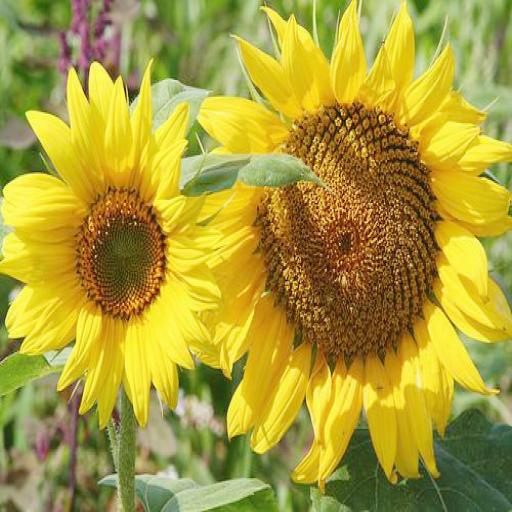sunflower: (1, 0, 512, 512)
